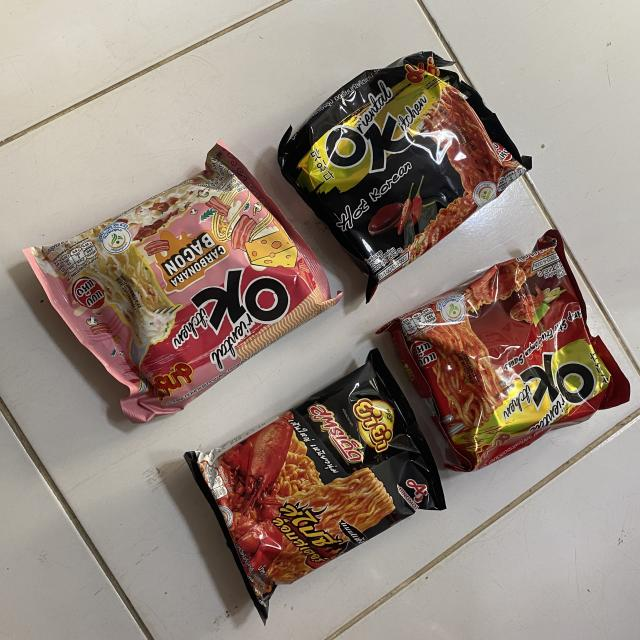plastik: (24, 141, 341, 422), (185, 349, 445, 621), (279, 51, 531, 301), (378, 230, 630, 471)
